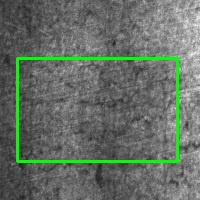crazing: (17, 58, 177, 161)
